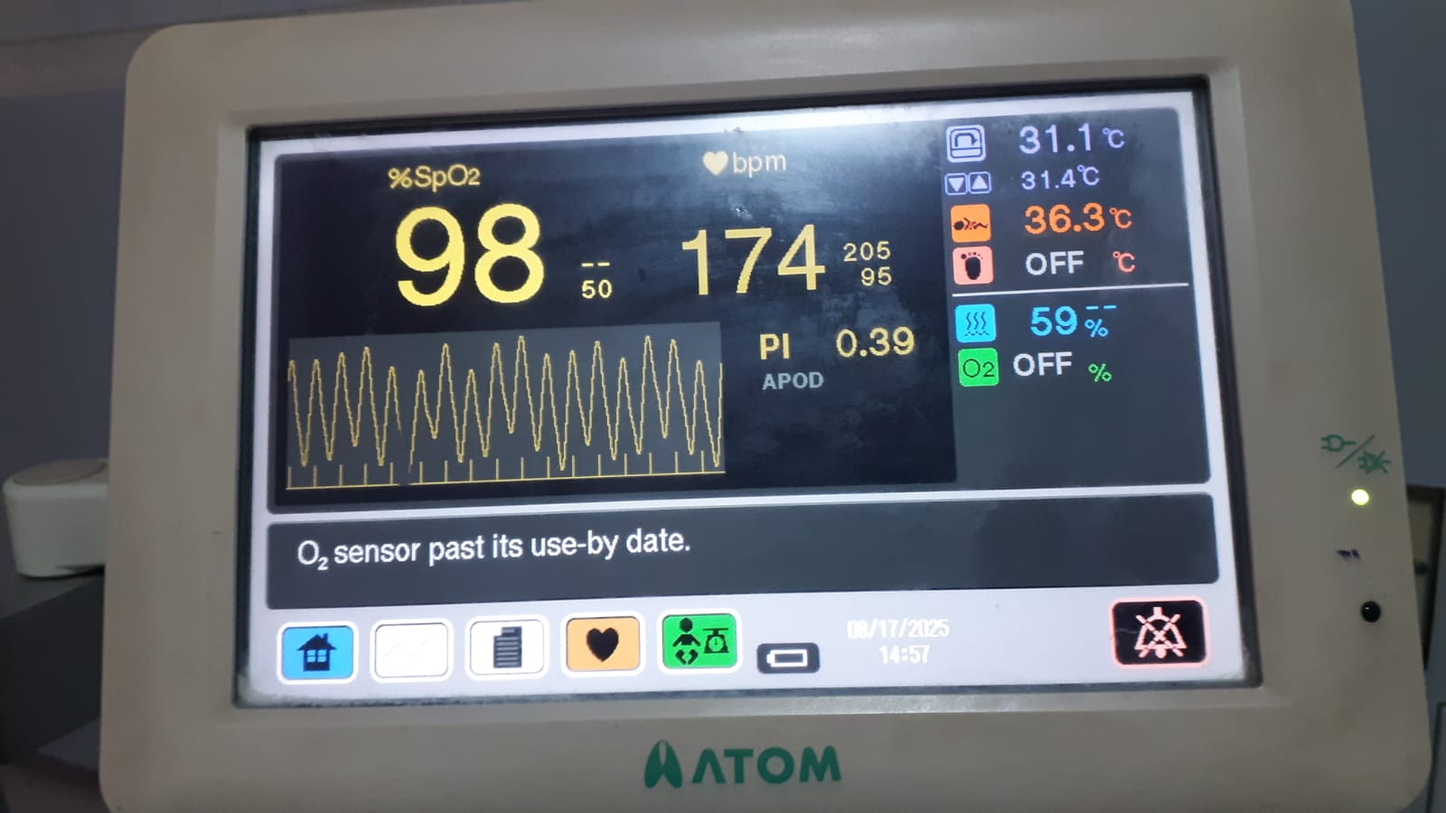air_temp_value: (992, 113, 1107, 165)
heart_rate_value: (658, 220, 832, 308)
humidity_value: (1019, 302, 1088, 351)
skin_temp_value: (1020, 196, 1105, 242)
spo2_value: (374, 202, 549, 324)
